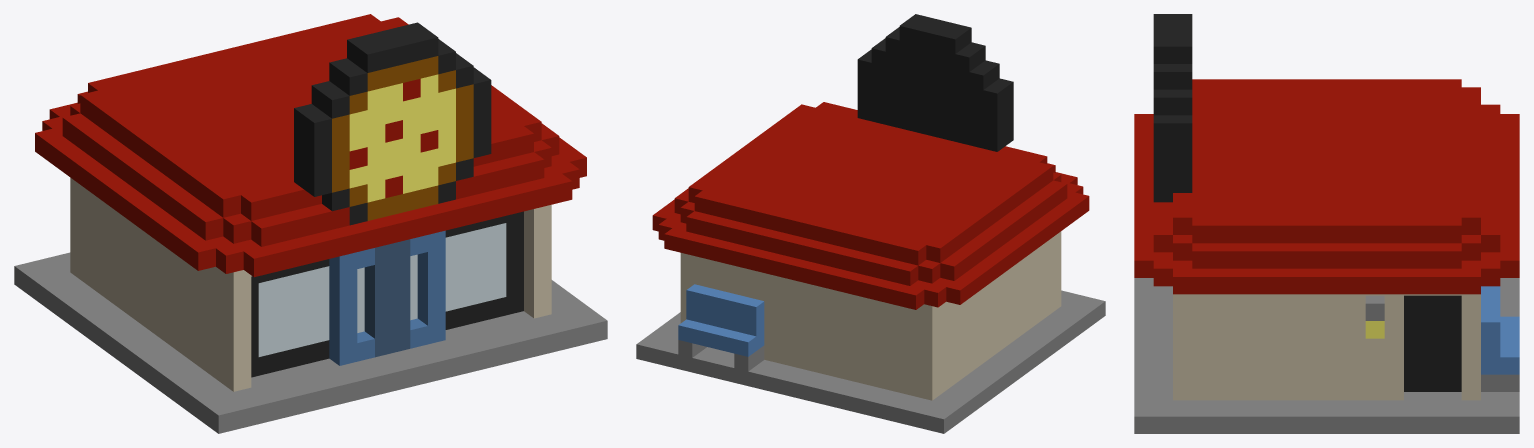
Rendered from pizza_delivery.obj.
The picture shows the model from 3 angles, left to right: view 1: azimuth 30°, elevation 25°; view 2: azimuth 150°, elevation 25°; view 3: azimuth 270°, elevation 25°; orthographic projection. The views are drawn at different scales.
Bounding box in the file's own units: 22 × 18 × 20.
Materials: 1 (1 with a texture image).
